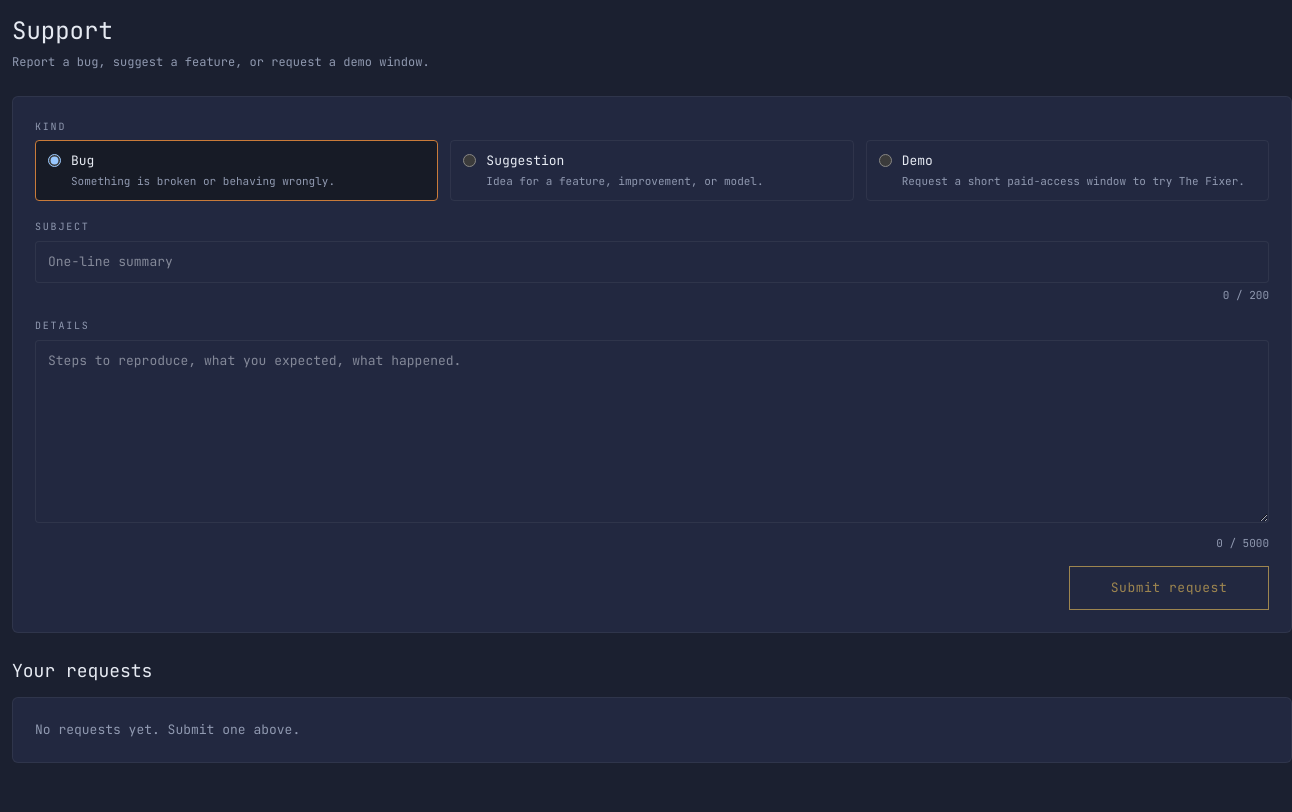
Test: Support page › disables submit when subject or body is empty (validation)
Expected: the button "Submit request" is disabled, [1069, 566, 1269, 610]
In the field labelled "Subject": (652, 262) [35, 241, 1269, 283], type "Hello"
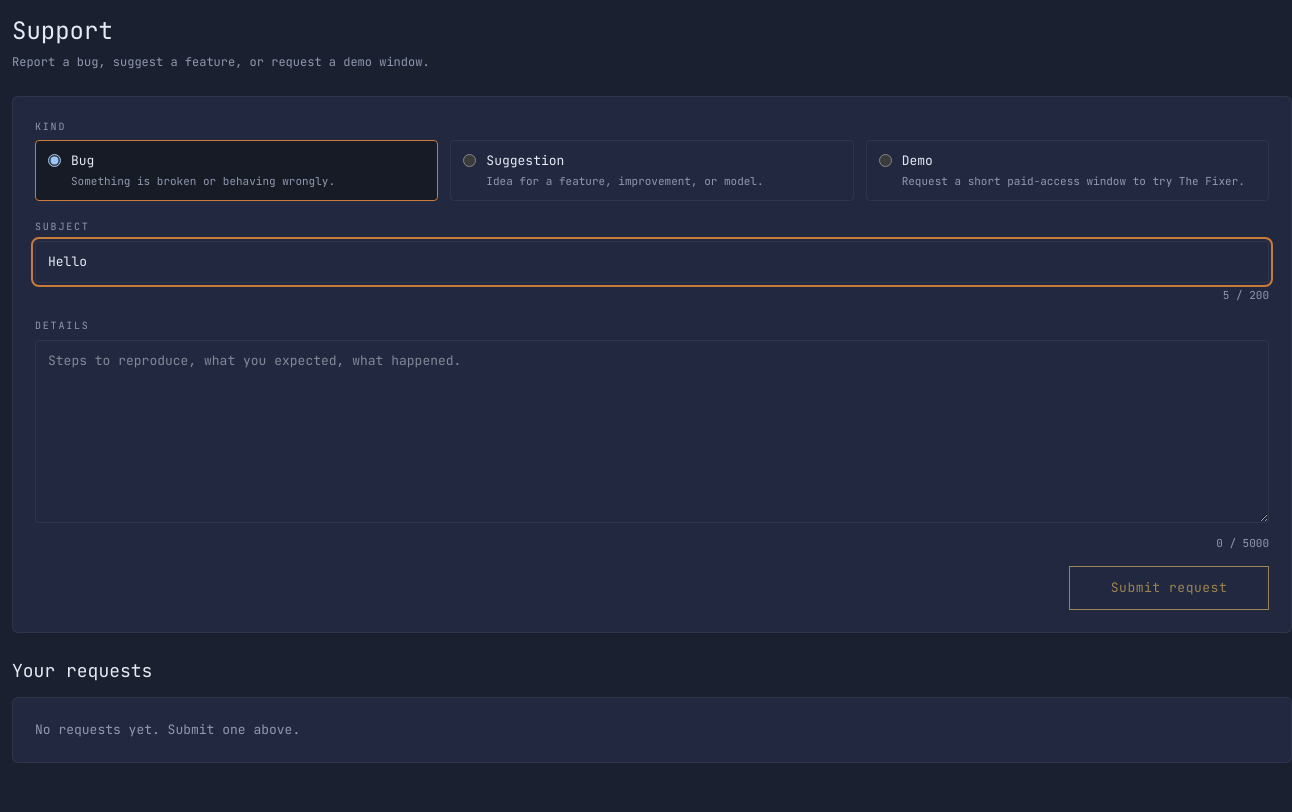
Expected: the button "Submit request" is disabled, [1069, 566, 1269, 610]
In the text box labelled "Details": (652, 431) [35, 340, 1269, 523], type "Some details here."
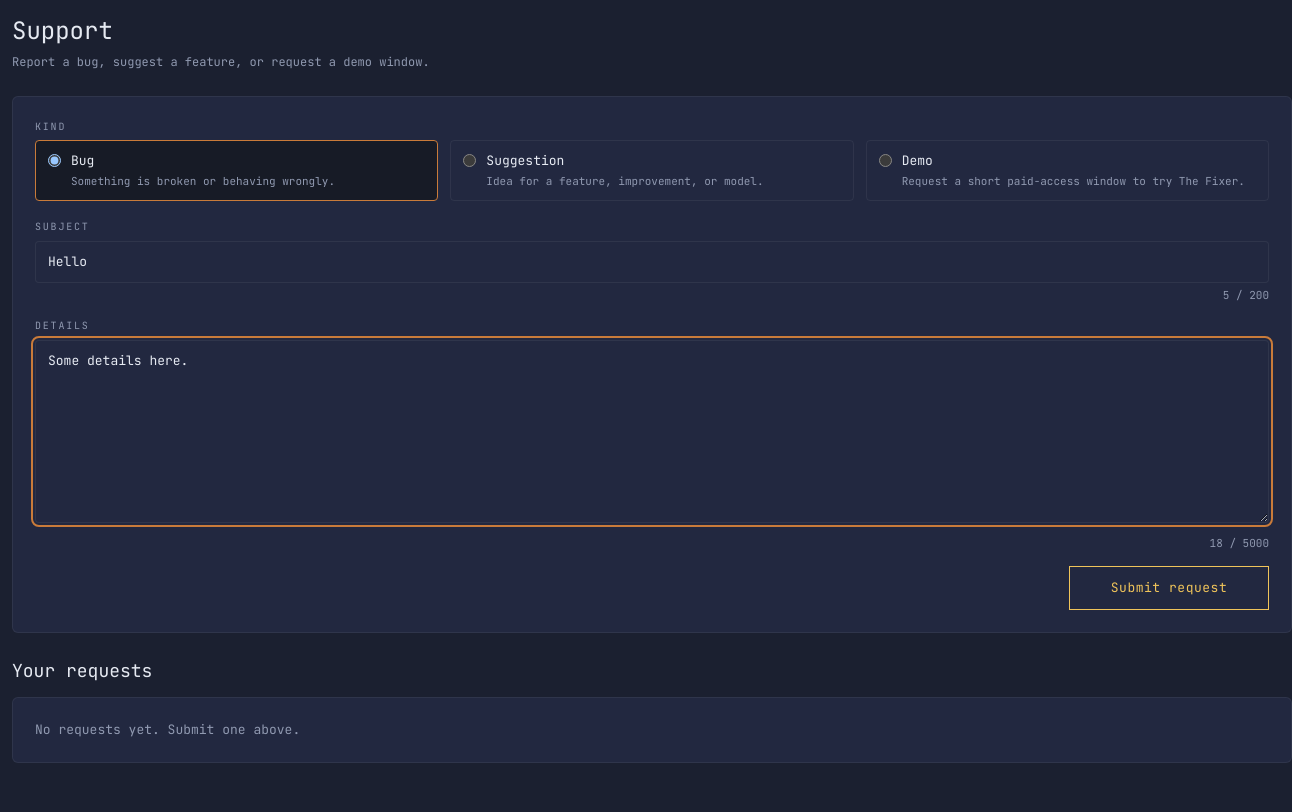
Expected: the button "Submit request" is enabled, [1069, 566, 1269, 610]
